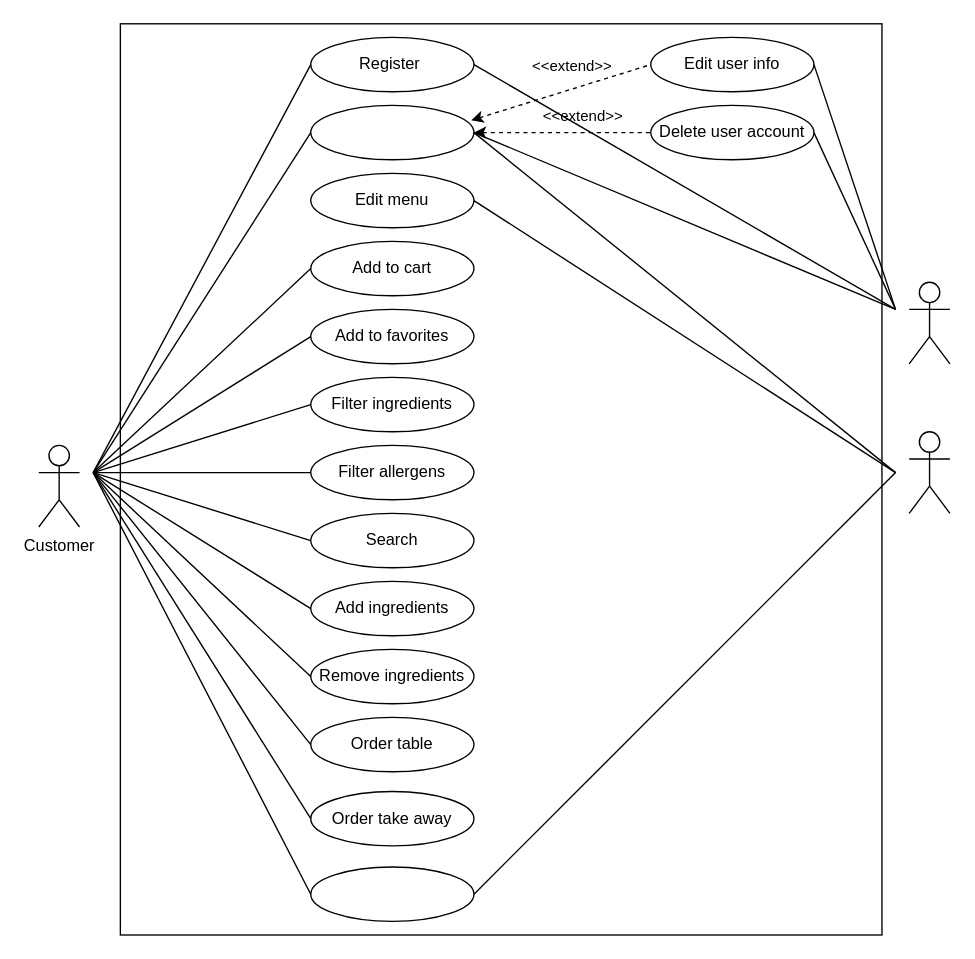
The diagram is 975 pixels wide and 959 high, and some of its shapes have lost their labels. The centre of each missing label's shape, as x and y in pixels:
"Admin" belongs at [929,322].
"Login" belongs at [391,132].
"Staff" belongs at [929,471].
"View order" belongs at [391,893].
